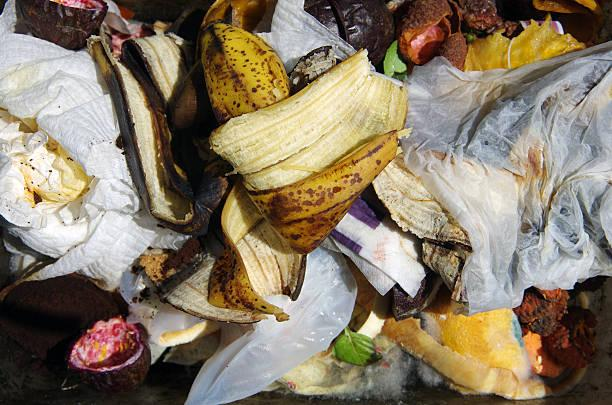organic: (92, 5, 403, 325), (89, 29, 214, 235), (389, 302, 532, 395), (198, 20, 289, 125), (65, 315, 153, 394), (20, 133, 93, 206), (136, 32, 189, 107), (505, 17, 581, 69), (1, 59, 77, 107), (464, 31, 512, 72), (0, 103, 42, 142), (381, 79, 408, 133), (159, 320, 214, 346), (228, 0, 269, 32), (20, 184, 37, 209), (577, 291, 590, 309)
